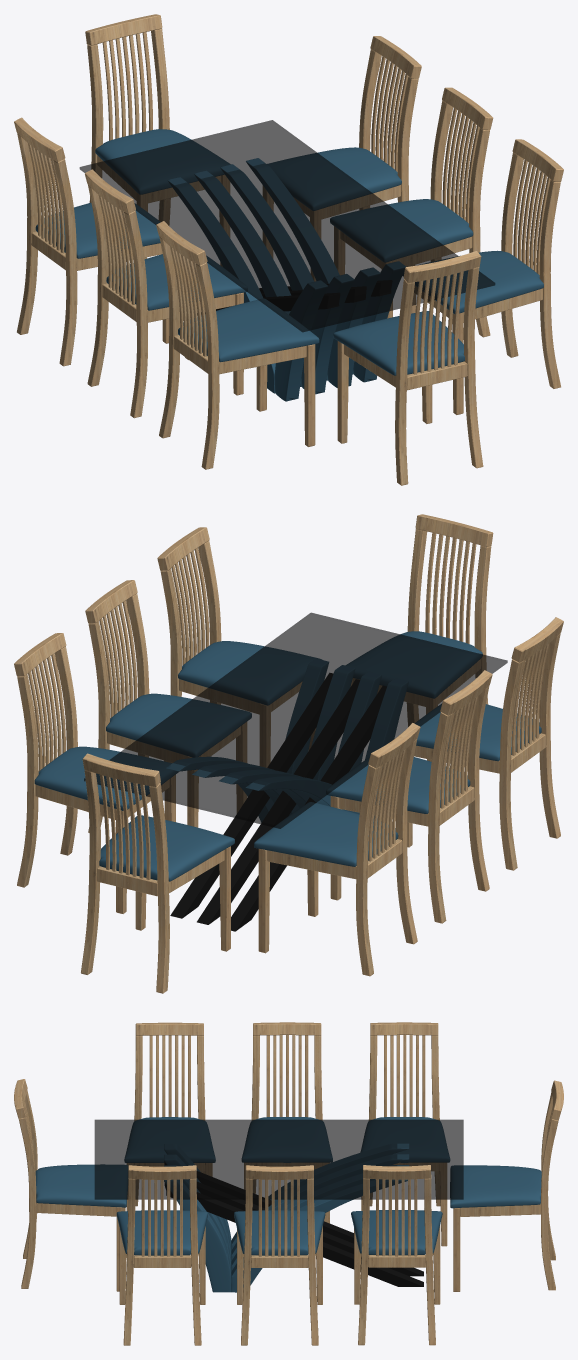
File: Tableoutside.fbx
3 views of the same model, one above another, from view 1: azimuth 30°, elevation 25°; view 2: azimuth 150°, elevation 25°; view 3: azimuth 270°, elevation 25° (orthographic). The views are drawn at different scales.
Visible parts, largest first — view 1: Box006, Archinteriors8_04_30, Archinteriors8_04_058, Archinteriors8_04_047, Archinteriors8_04_057, Archinteriors8_04_056, Archinteriors8_04_28, Archinteriors8_04_050, Archinteriors8_04_052, Archinteriors8_04_049, Archinteriors8_04_051, Archinteriors8_04_27 (+10 smaller); view 2: Box006, Archinteriors8_04_28, Archinteriors8_04_056, Box007, Archinteriors8_04_052, Archinteriors8_04_057, Archinteriors8_04_058, Archinteriors8_04_050, Archinteriors8_04_047, Archinteriors8_04_30, Archinteriors8_04_049, Archinteriors8_04_048 (+10 smaller); view 3: Box006, Archinteriors8_04_047, Archinteriors8_04_052, Archinteriors8_04_050, Archinteriors8_04_056, Archinteriors8_04_057, Archinteriors8_04_058, Box007, Archinteriors8_04_054, Archinteriors8_04_27, Archinteriors8_04_28, Archinteriors8_04_29 (+10 smaller).
Boxes of the visible parts, x1,y1,x2,y2 form: Box006: (79,120,495,332); Archinteriors8_04_30: (337,251,483,485); Archinteriors8_04_058: (156,221,315,469); Archinteriors8_04_047: (411,139,563,414); Archinteriors8_04_057: (85,169,243,418); Archinteriors8_04_056: (14,117,169,366); Archinteriors8_04_28: (85,14,229,266); Archinteriors8_04_050: (334,87,493,337); Archinteriors8_04_052: (263,36,421,281); Archinteriors8_04_049: (330,199,473,262); Archinteriors8_04_051: (267,147,401,210); Archinteriors8_04_27: (95,129,230,194); Box006: (84,612,507,828); Archinteriors8_04_28: (81,753,230,993); Archinteriors8_04_056: (258,723,420,976); Box007: (170,673,386,931); Archinteriors8_04_052: (14,633,175,913); Archinteriors8_04_057: (330,670,492,923); Archinteriors8_04_058: (407,617,563,870); Archinteriors8_04_050: (85,580,246,832); Archinteriors8_04_047: (157,527,315,767); Archinteriors8_04_30: (351,514,493,761); Archinteriors8_04_049: (106,693,251,757); Archinteriors8_04_048: (178,641,321,705); Box006: (94,1119,463,1199); Archinteriors8_04_047: (119,1165,205,1345); Archinteriors8_04_052: (354,1165,440,1345); Archinteriors8_04_050: (237,1165,322,1345); Archinteriors8_04_056: (361,1022,447,1246); Archinteriors8_04_057: (244,1022,329,1223); Archinteriors8_04_058: (126,1022,212,1210); Box007: (164,1161,423,1286); Archinteriors8_04_054: (242,1117,332,1162); Archinteriors8_04_27: (450,1165,541,1208); Archinteriors8_04_28: (453,1080,563,1291); Archinteriors8_04_29: (35,1164,127,1207).
Bounding box in the file's own units: 21.31 × 11.97 × 33.22.
4 materials, 1 textured.
